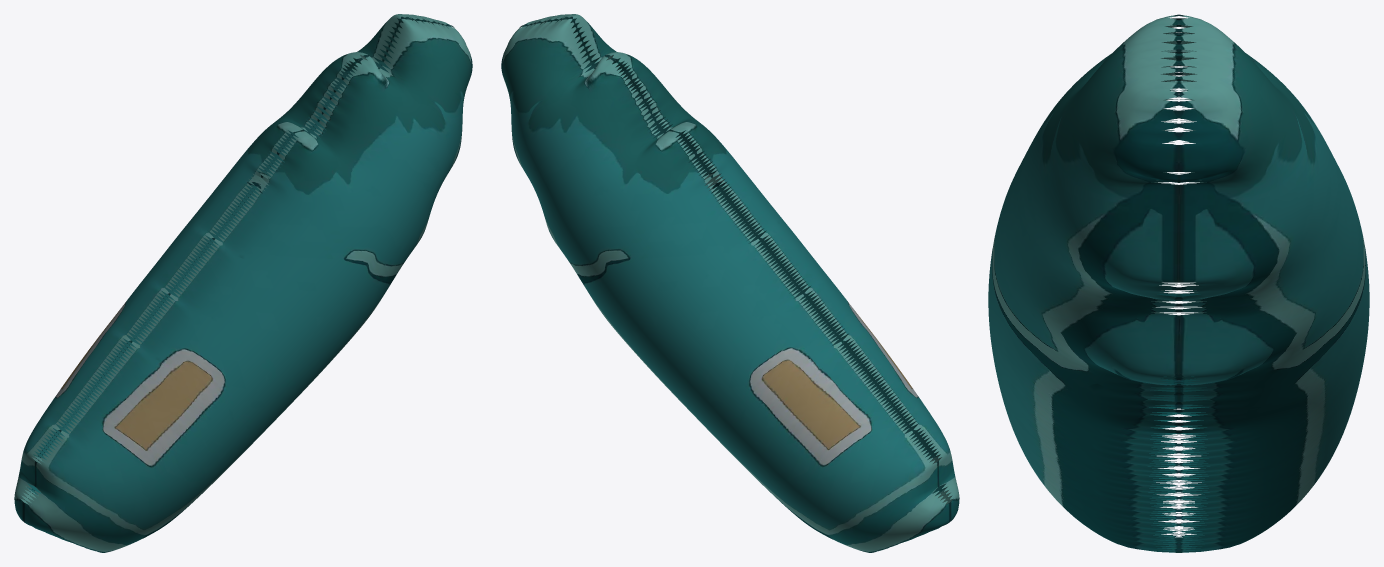
The model's file is teal_buttress.glb.
3 renders of one model, left to right at view 1: azimuth 30°, elevation 25°; view 2: azimuth 150°, elevation 25°; view 3: azimuth 270°, elevation 25°, orthographic. The views are drawn at different scales.
Parts seen in each view (by area): view 1: teal_buttress; view 2: teal_buttress; view 3: teal_buttress.
Part boxes in pixels (x1,y1,x2,y2): teal_buttress: (14,14,472,552); teal_buttress: (501,14,959,552); teal_buttress: (988,14,1369,552).
Bounding box in the file's own units: 0.9889 × 0.9757 × 0.4288.
Materials: 1 (1 with a texture image).
